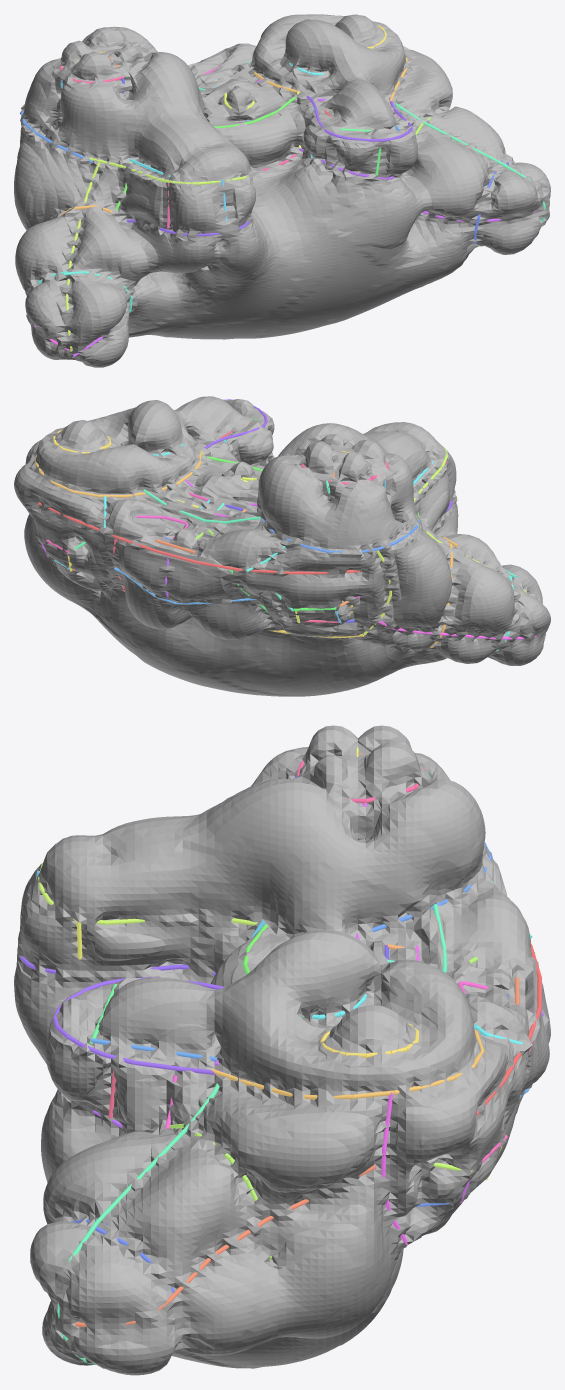
The model's file is author2_gamepad.gltf.
3 views of the same model, one above another, from view 1: azimuth 30°, elevation 25°; view 2: azimuth 150°, elevation 25°; view 3: azimuth 270°, elevation 25° (orthographic). The views are drawn at different scales.
Bounding box in the file's own units: 0.8358 × 0.4663 × 0.4735.
